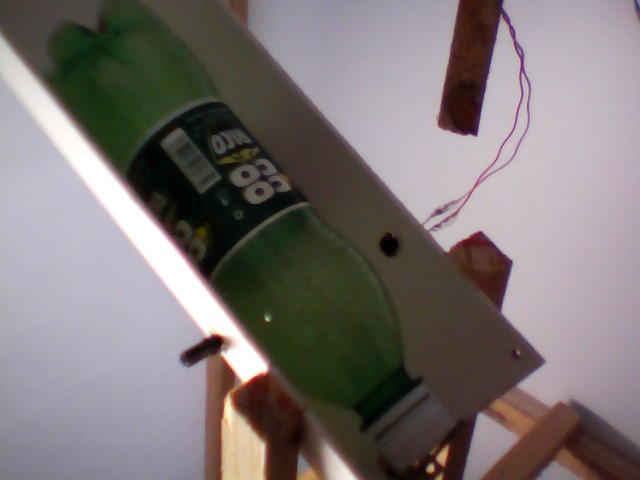plastico: (35, 1, 462, 478)
